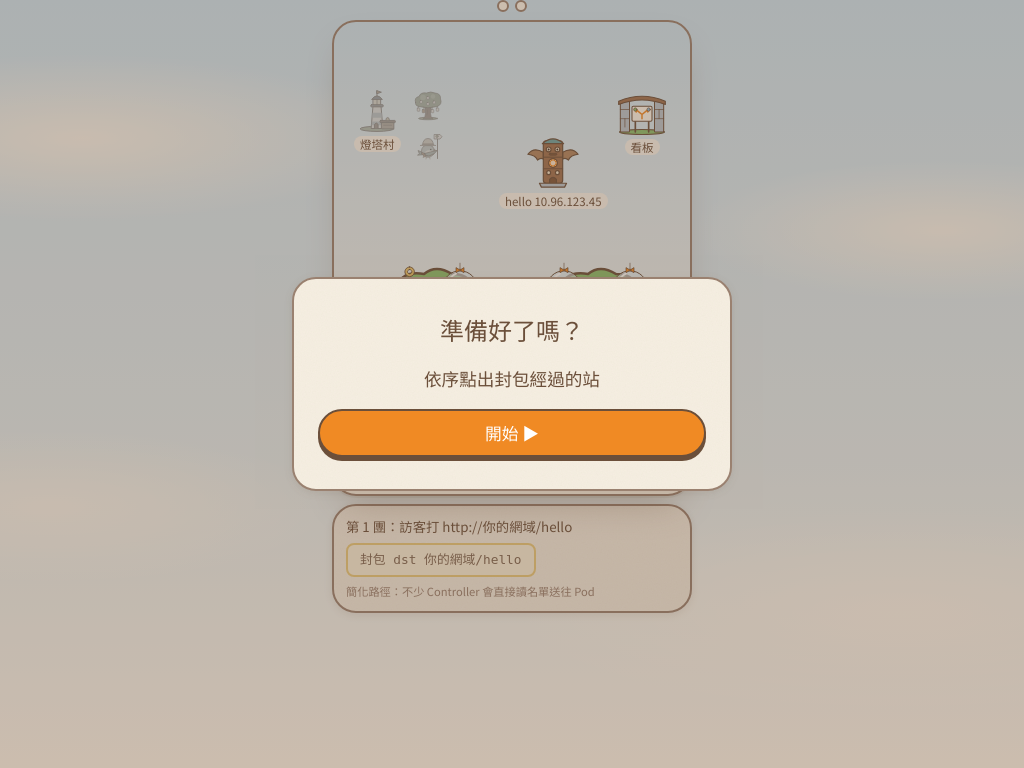
Day18Game › 錯的道路管理員只提示，不會前進；不在路線上的角色停用
The image size is (1024, 768).
Click the button with test id "shell-start": (512, 433) [318,409,706,457]
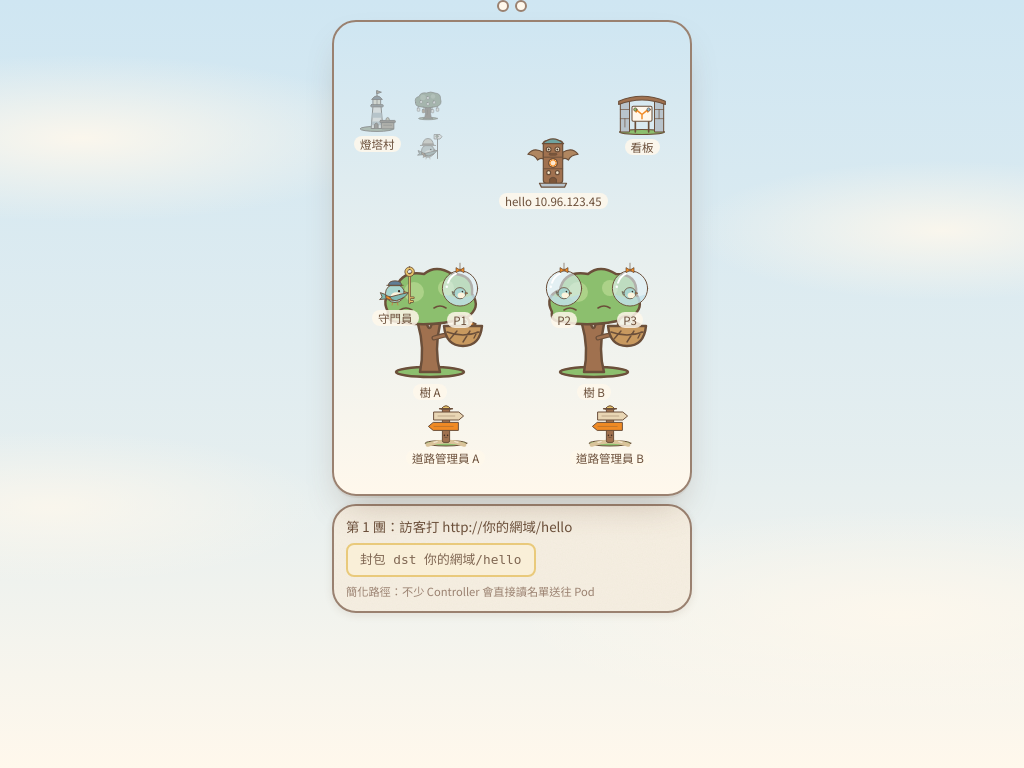
expect the button "燈塔村" is disabled: met, box [354,90,400,152]
Click the button "守門員": (395, 295) [372,264,418,326]
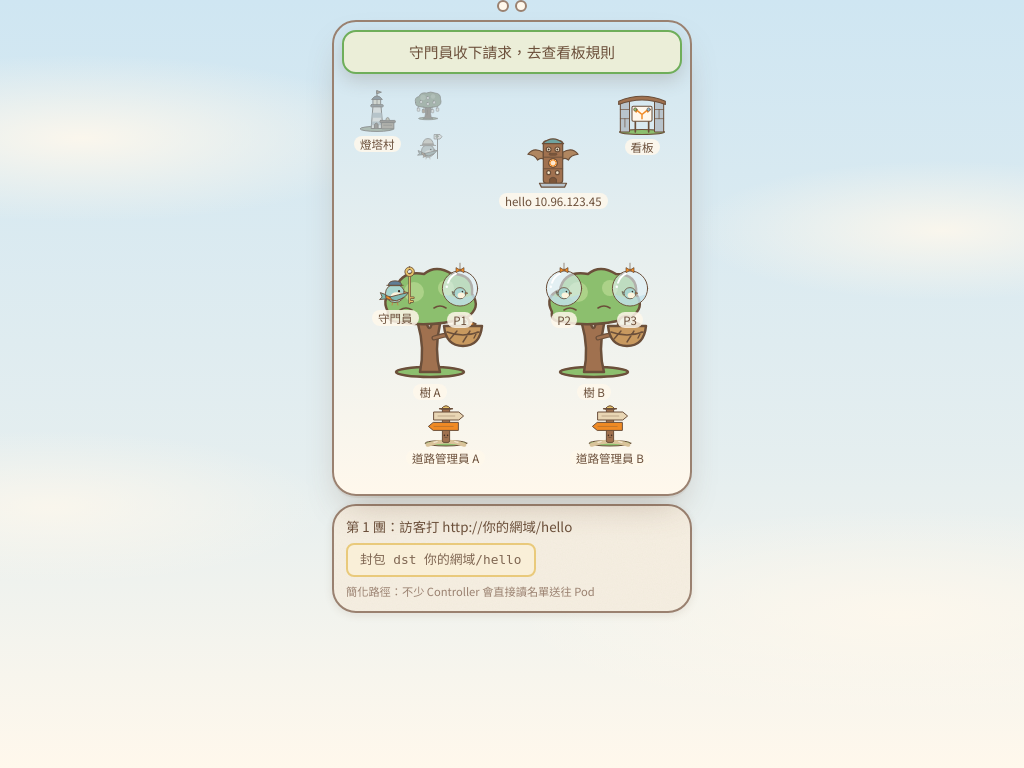
Click the button "看板": (642, 121) [617,87,667,155]
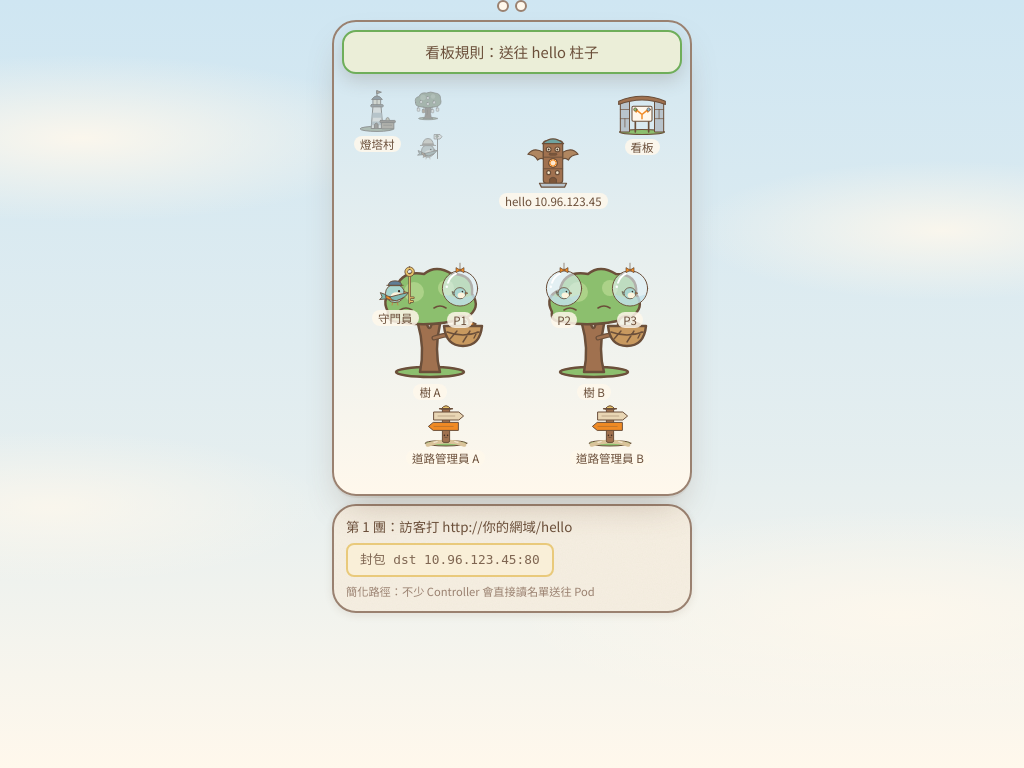
Click the button "hello 10.96.123.45": (553, 171) [499,133,608,209]
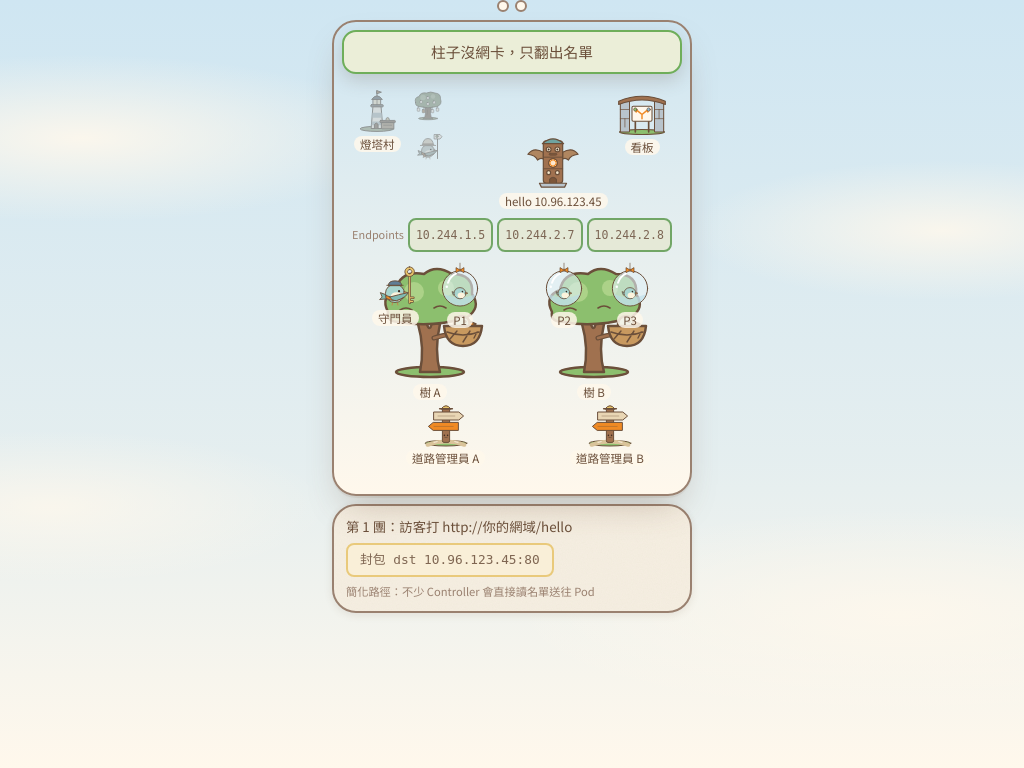
Click the button "道路管理員 B": (610, 433) [570,400,650,466]
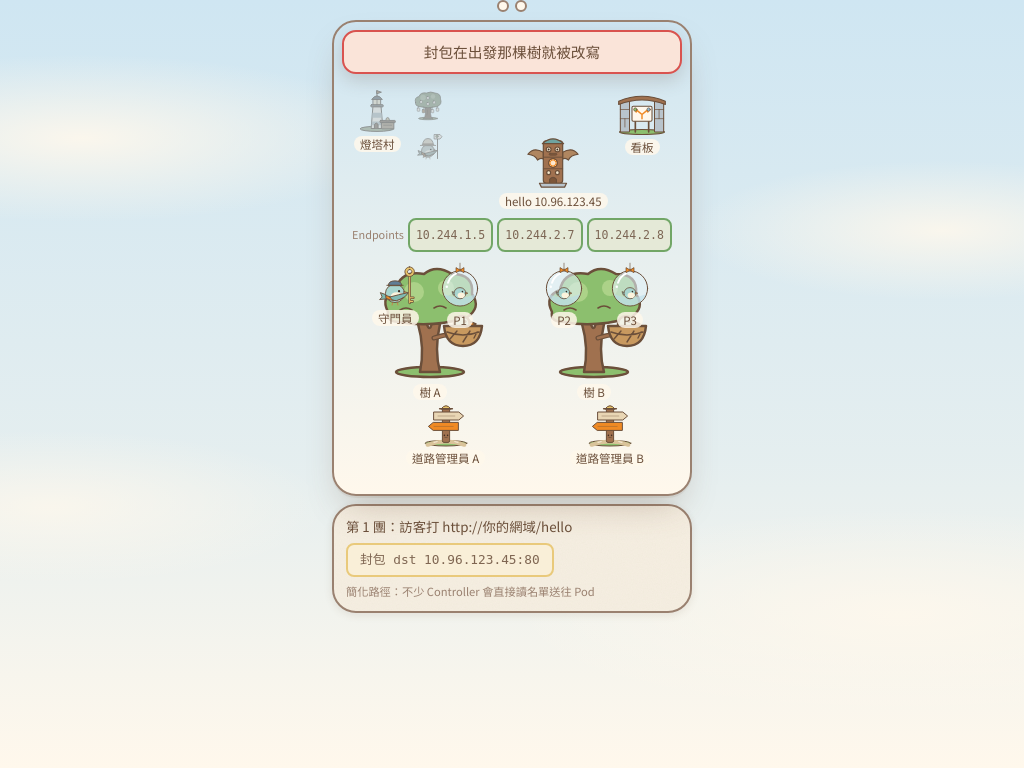
expect the button "10.244.1.5" is disabled: met, box [408,218,493,252]
expect the message "封包在出發那棵樹就被改寫" is shown: met, box [342,30,682,74]
